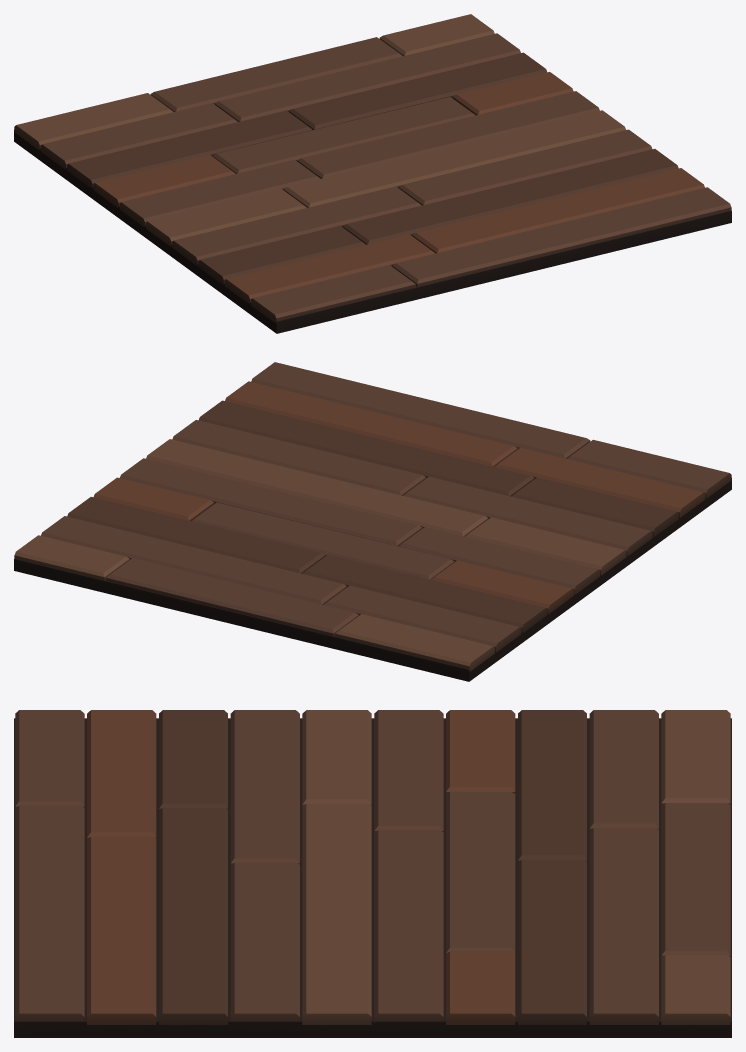
File: floor_planks_dark_large_C.glb
The picture shows the model from 3 angles, top to bottom: view 1: azimuth 30°, elevation 25°; view 2: azimuth 150°, elevation 25°; view 3: azimuth 270°, elevation 25°; orthographic projection. The views are drawn at different scales.
Parts seen in each view (by area): view 1: Item; view 2: Item; view 3: Item.
Part boxes in pixels (x1,y1,x2,y2): Item: (14, 14, 731, 333); Item: (14, 362, 731, 681); Item: (14, 710, 731, 1037).
Bounding box in the file's own units: 4 × 0.1512 × 4.
1 material, 1 textured.
